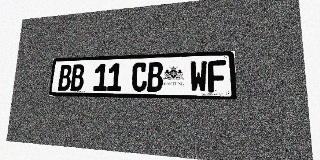1: (107, 63, 122, 91), (93, 64, 108, 91)
B: (147, 62, 163, 92), (70, 64, 85, 91), (58, 65, 72, 91)
C: (131, 62, 147, 92)
F: (208, 60, 226, 92)
W: (190, 61, 207, 92)
